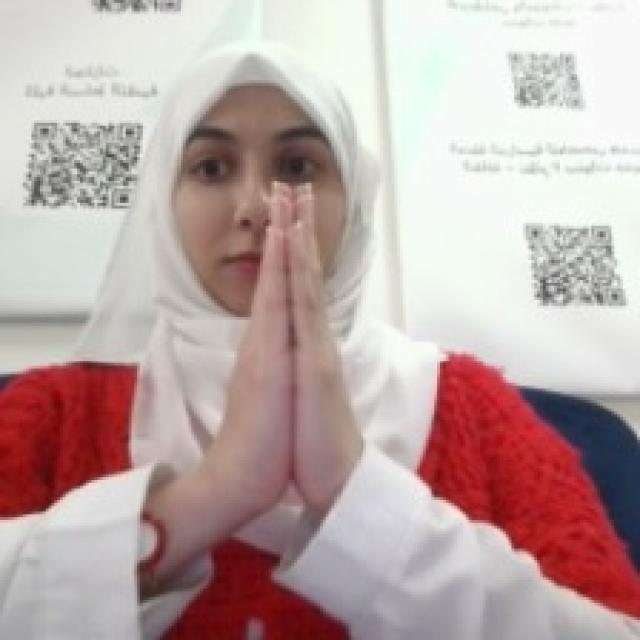sorry: (211, 177, 360, 512)
